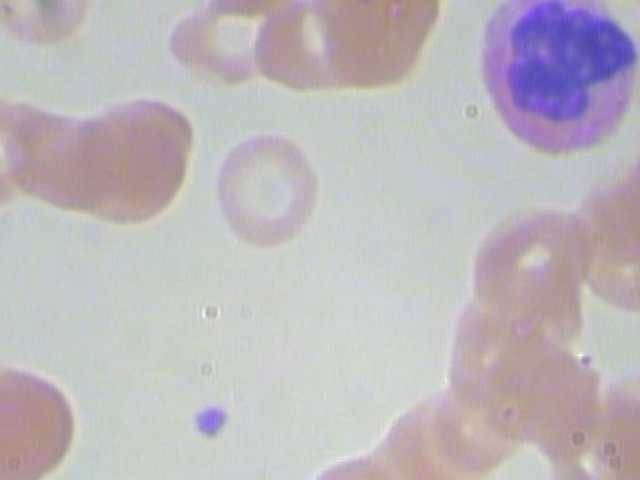Platelets: (185, 398, 234, 441)
RBC: (62, 90, 201, 235), (459, 200, 597, 326), (205, 125, 329, 254), (309, 0, 449, 100), (0, 356, 94, 480), (164, 0, 275, 86), (0, 0, 107, 45), (564, 0, 640, 18)
WBC: (472, 0, 640, 158)
